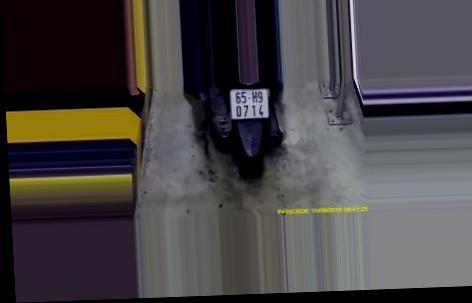License_Plate: (227, 85, 275, 125)
